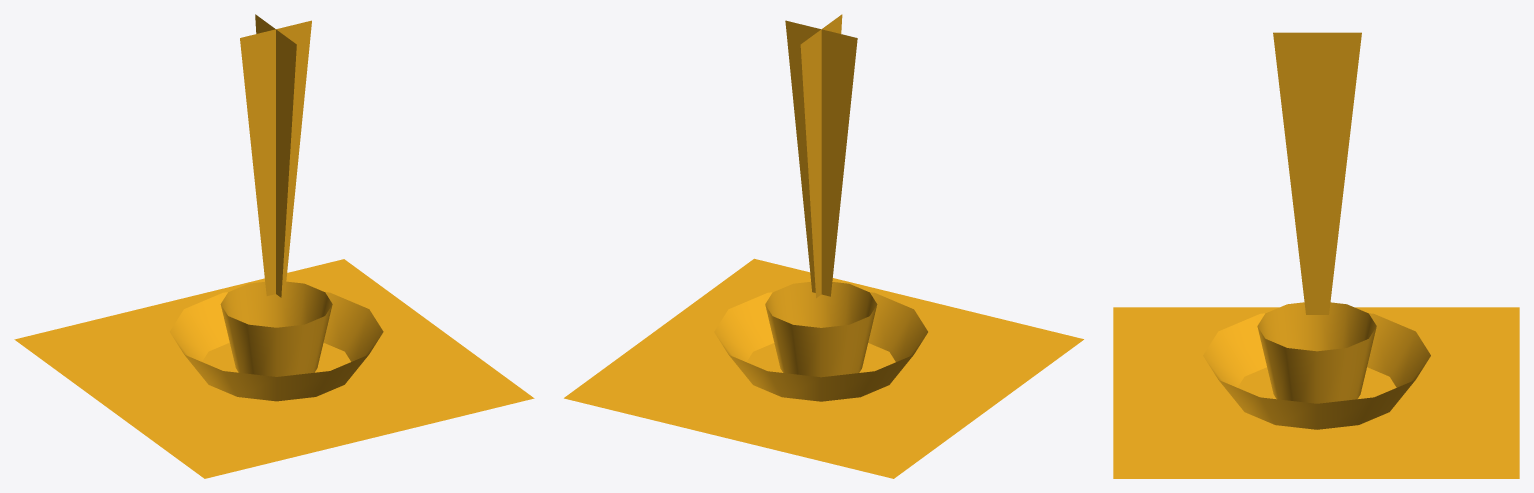
File: Orange_highlight.FBX
3 renders of one model, left to right at view 1: azimuth 30°, elevation 25°; view 2: azimuth 150°, elevation 25°; view 3: azimuth 270°, elevation 25°, orthographic. The views are drawn at different scales.
Parts seen in each view (by area): view 1: floor_highlight001, Far_highlight, low_highlight001, near_highlight001; view 2: floor_highlight001, Far_highlight, low_highlight001, near_highlight001; view 3: floor_highlight001, Far_highlight, low_highlight001, near_highlight001.
Boxes of the visible parts, box(x1,y1,x2,y2) form: floor_highlight001: box(14, 259, 534, 478); Far_highlight: box(240, 14, 311, 297); low_highlight001: box(170, 292, 383, 401); near_highlight001: box(220, 281, 332, 376); floor_highlight001: box(564, 258, 1083, 478); Far_highlight: box(785, 14, 857, 298); low_highlight001: box(714, 292, 927, 401); near_highlight001: box(765, 281, 877, 377); floor_highlight001: box(1113, 307, 1519, 478); Far_highlight: box(1273, 32, 1361, 314); low_highlight001: box(1203, 313, 1430, 429); near_highlight001: box(1257, 302, 1376, 403).
Size of the model in its own units: 88.3 by 87.34 by 88.3.
